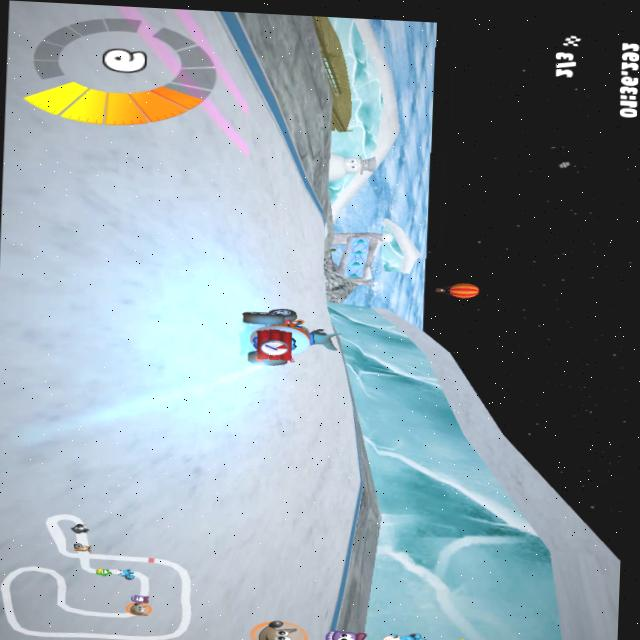player_kart: (233, 307, 341, 369)
track: (0, 1, 245, 640), (216, 362, 341, 640), (229, 218, 328, 311), (234, 130, 301, 221), (334, 372, 364, 482), (234, 55, 277, 131), (333, 480, 360, 525), (300, 192, 321, 220)
